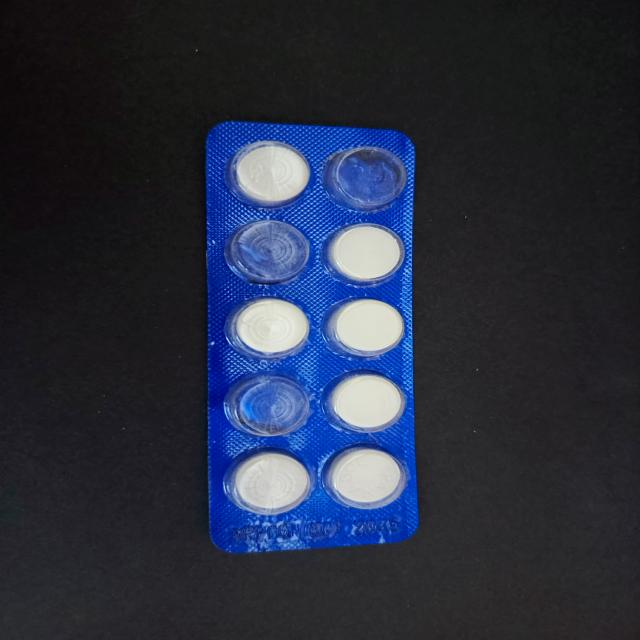defect: (222, 216, 316, 288), (221, 371, 316, 439), (318, 144, 409, 214)
